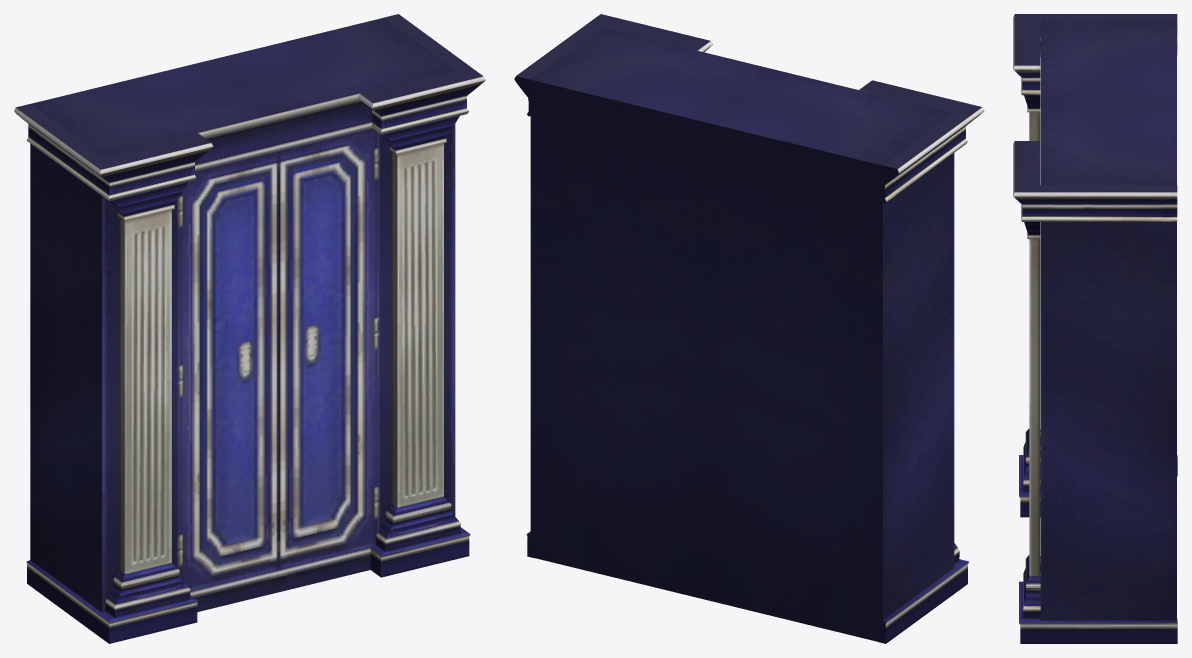
The model's file is furni_0201127.FBX.
3 renders of one model, left to right at view 1: azimuth 30°, elevation 25°; view 2: azimuth 150°, elevation 25°; view 3: azimuth 270°, elevation 25°, orthographic. The views are drawn at different scales.
Parts seen in each view (by area): view 1: furni_0201127; view 2: furni_0201127; view 3: furni_0201127.
Boxes of the visible parts, x1,y1,x2,y2 form: furni_0201127: [14, 14, 485, 643]; furni_0201127: [514, 14, 984, 643]; furni_0201127: [1013, 14, 1177, 643].
Bounding box in the file's own units: 187 × 222 × 72.07.
1 material, 1 textured.
